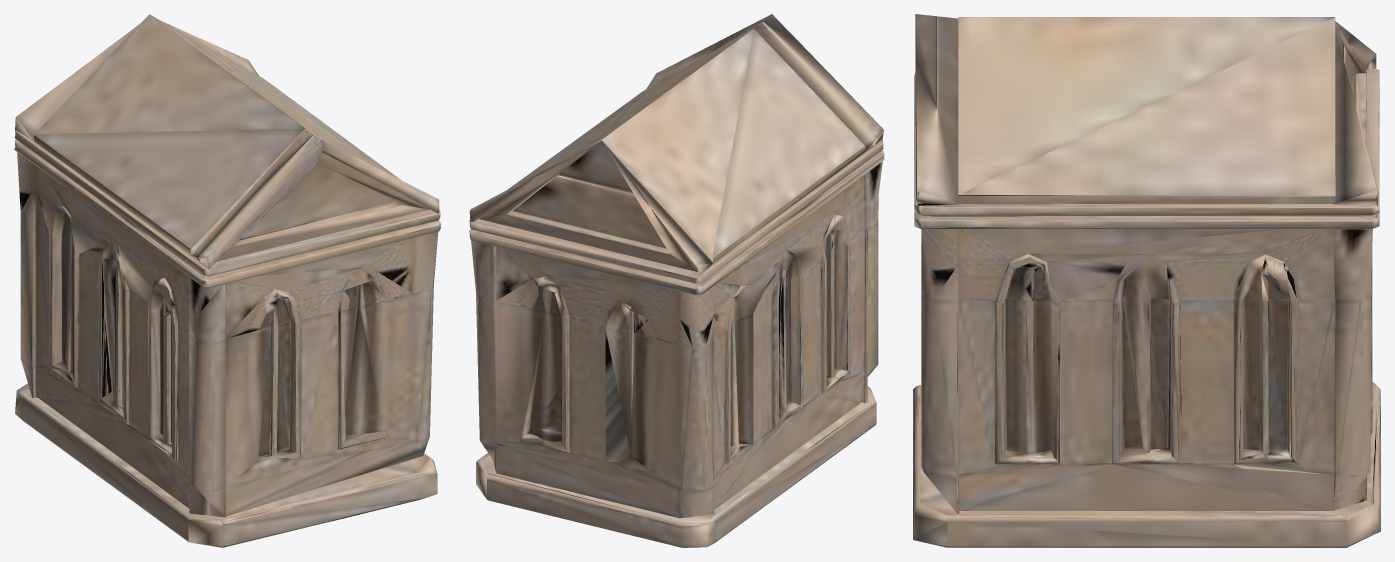
The model's file is 33-library.glb.
The picture shows the model from 3 angles, left to right: view 1: azimuth 30°, elevation 25°; view 2: azimuth 150°, elevation 25°; view 3: azimuth 270°, elevation 25°; orthographic projection. The views are drawn at different scales.
Parts seen in each view (by area): view 1: geometry_0; view 2: geometry_0; view 3: geometry_0.
Boxes of the visible parts, <box> form: geometry_0: <box>14,14,440,547</box>; geometry_0: <box>469,14,884,547</box>; geometry_0: <box>913,14,1380,547</box>.
Bounding box in the file's own units: 0.6319 × 0.9419 × 0.8658.
Materials: 1 (1 with a texture image).
